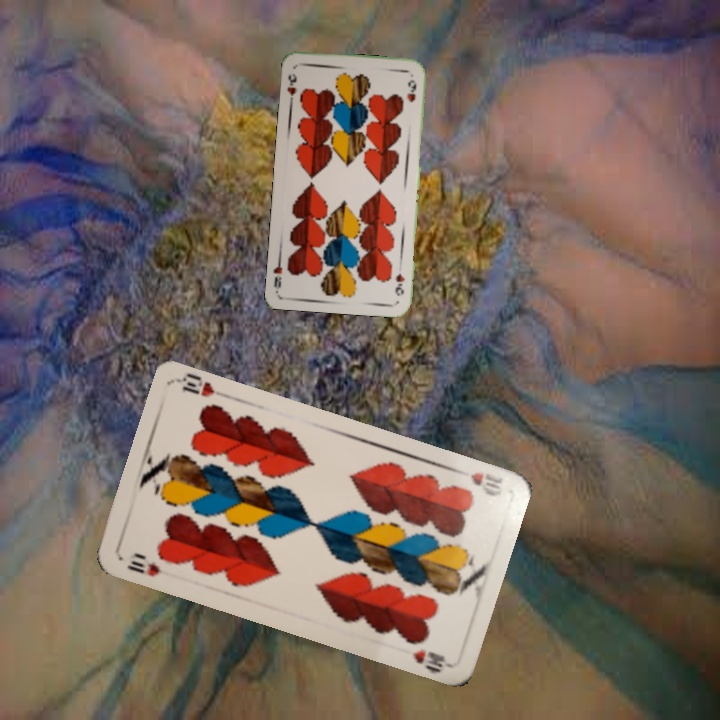H10: (451, 465, 506, 499), (122, 556, 163, 580)
H9: (283, 70, 299, 105), (391, 269, 407, 298)
